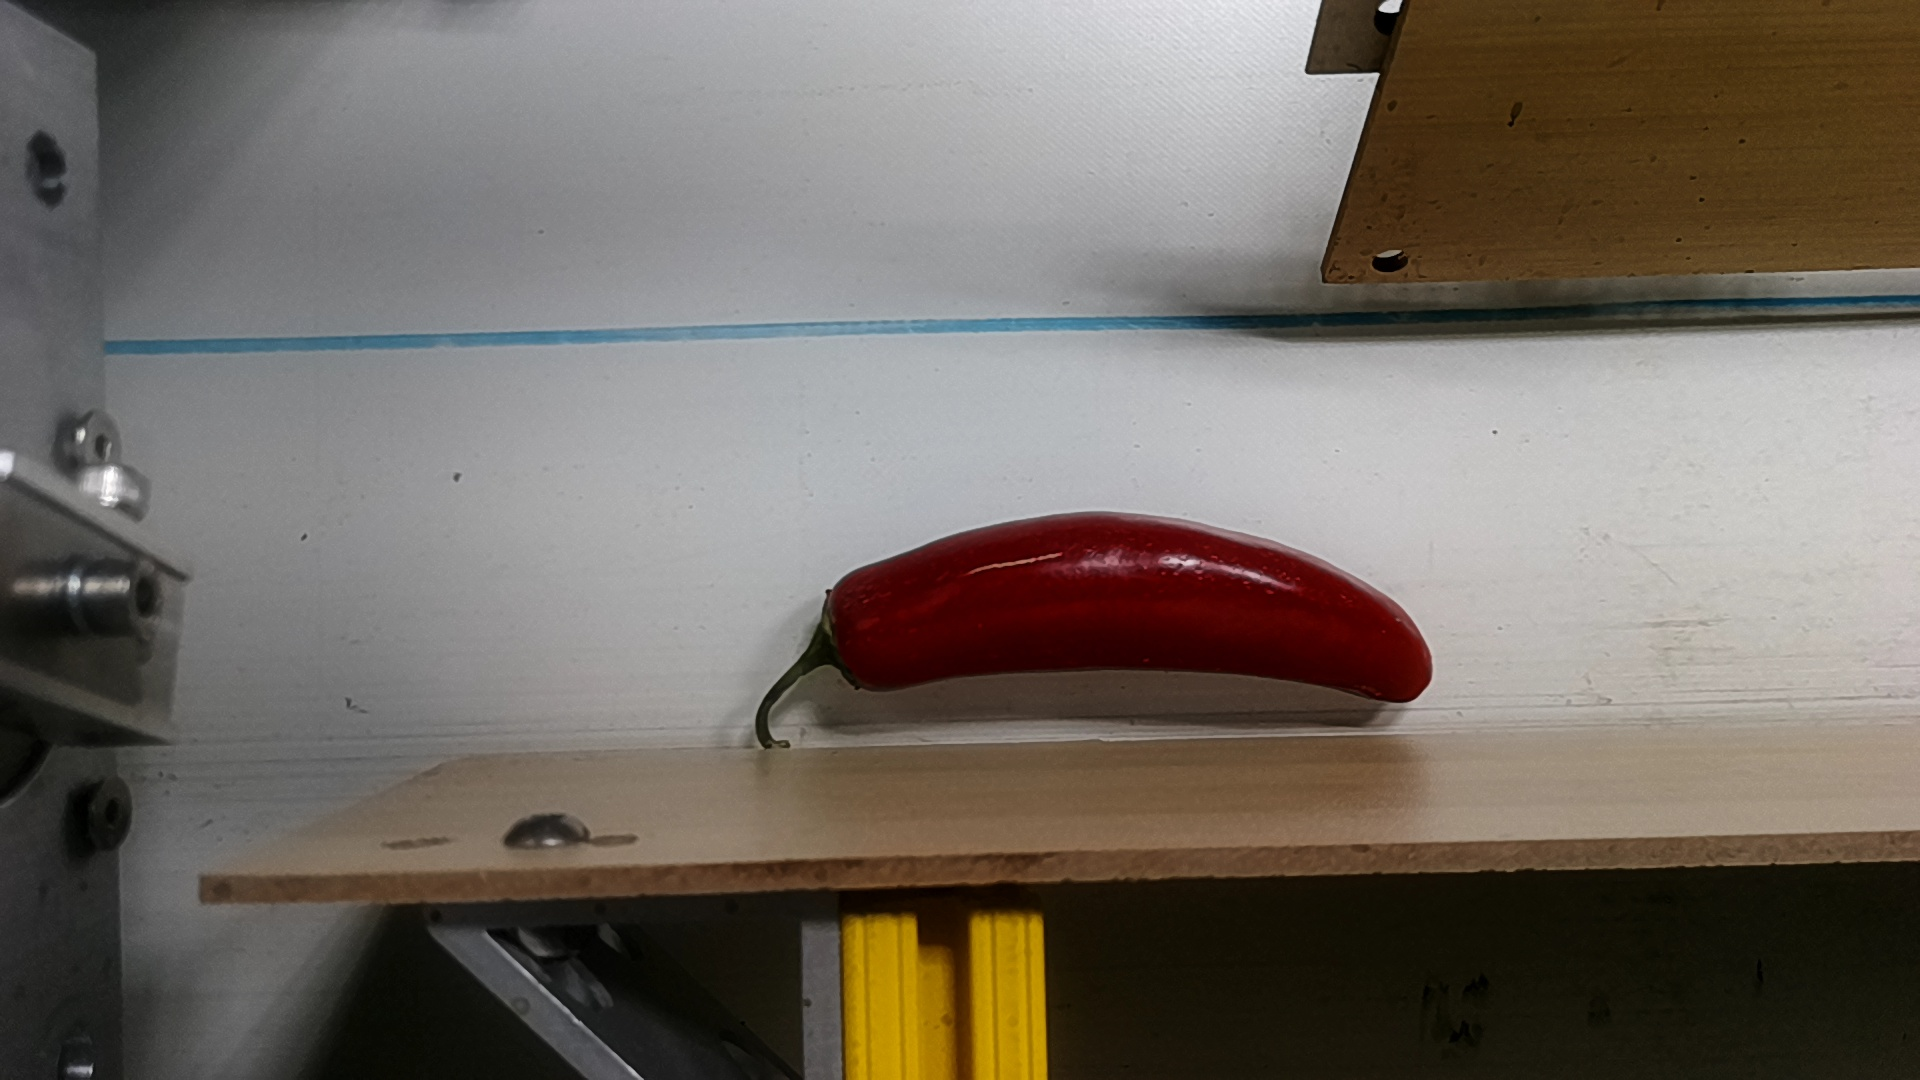Cut Point: (793, 558, 893, 699)
